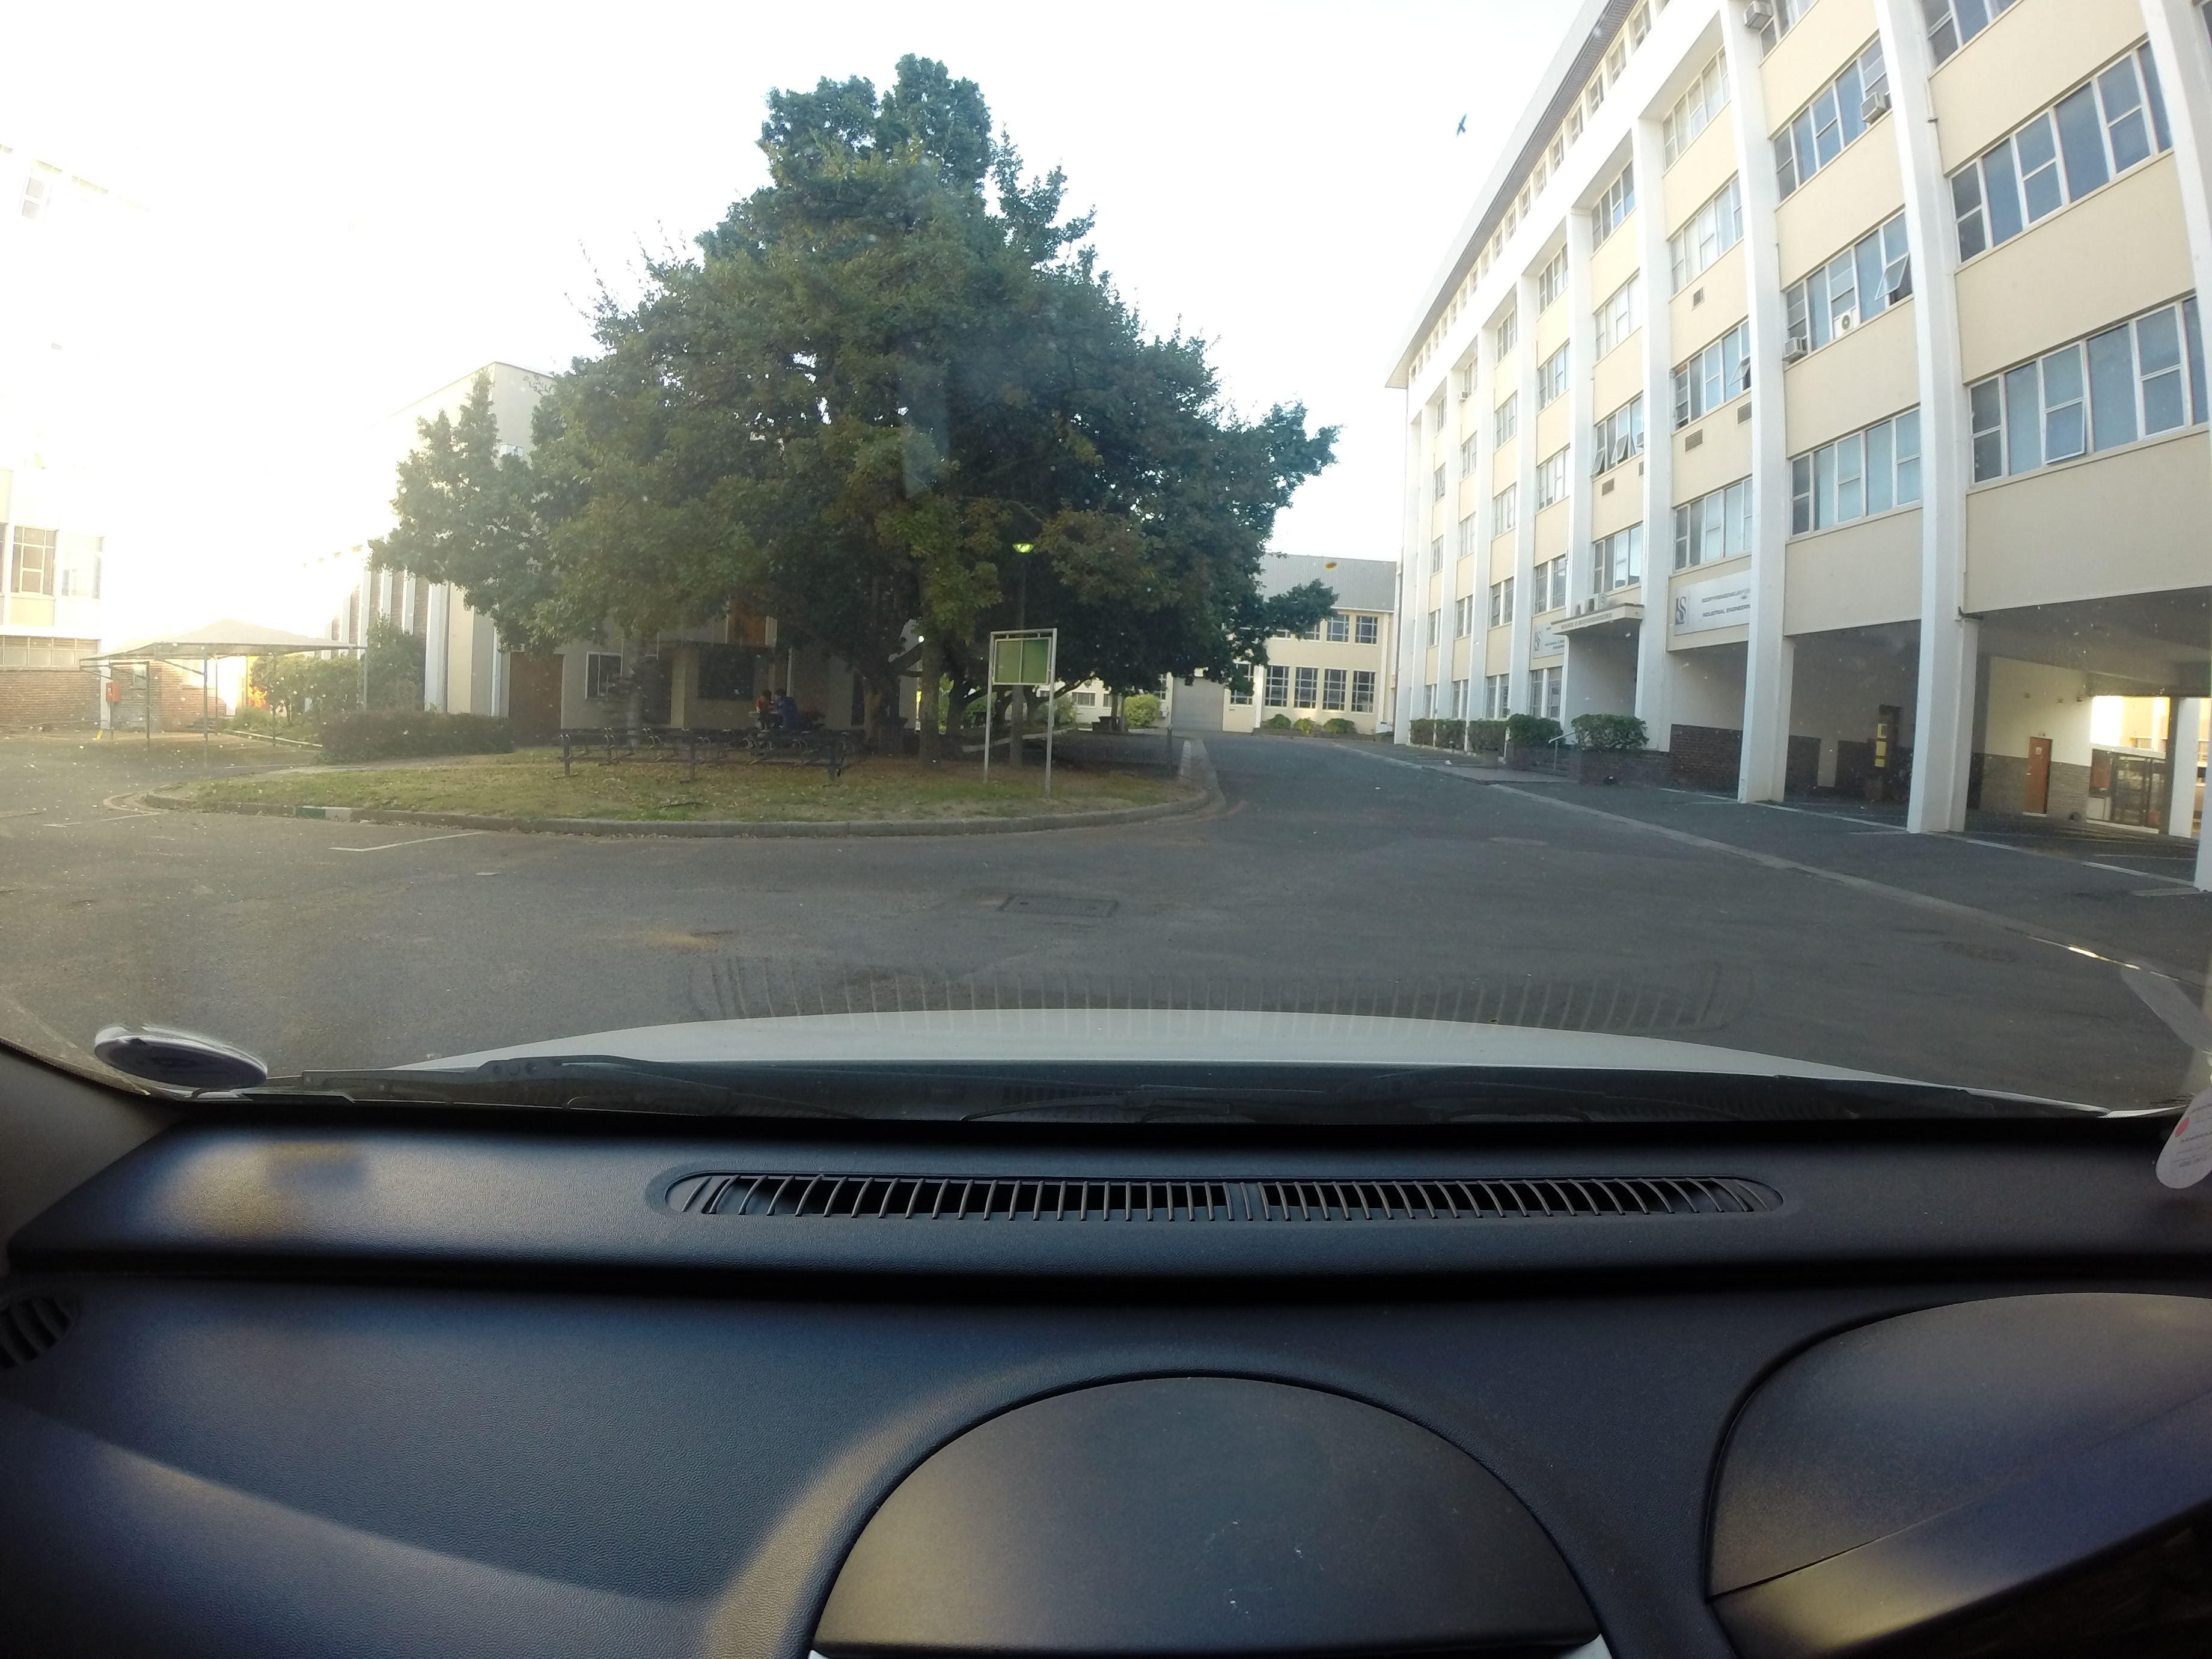pothole: (674, 920, 768, 950)
